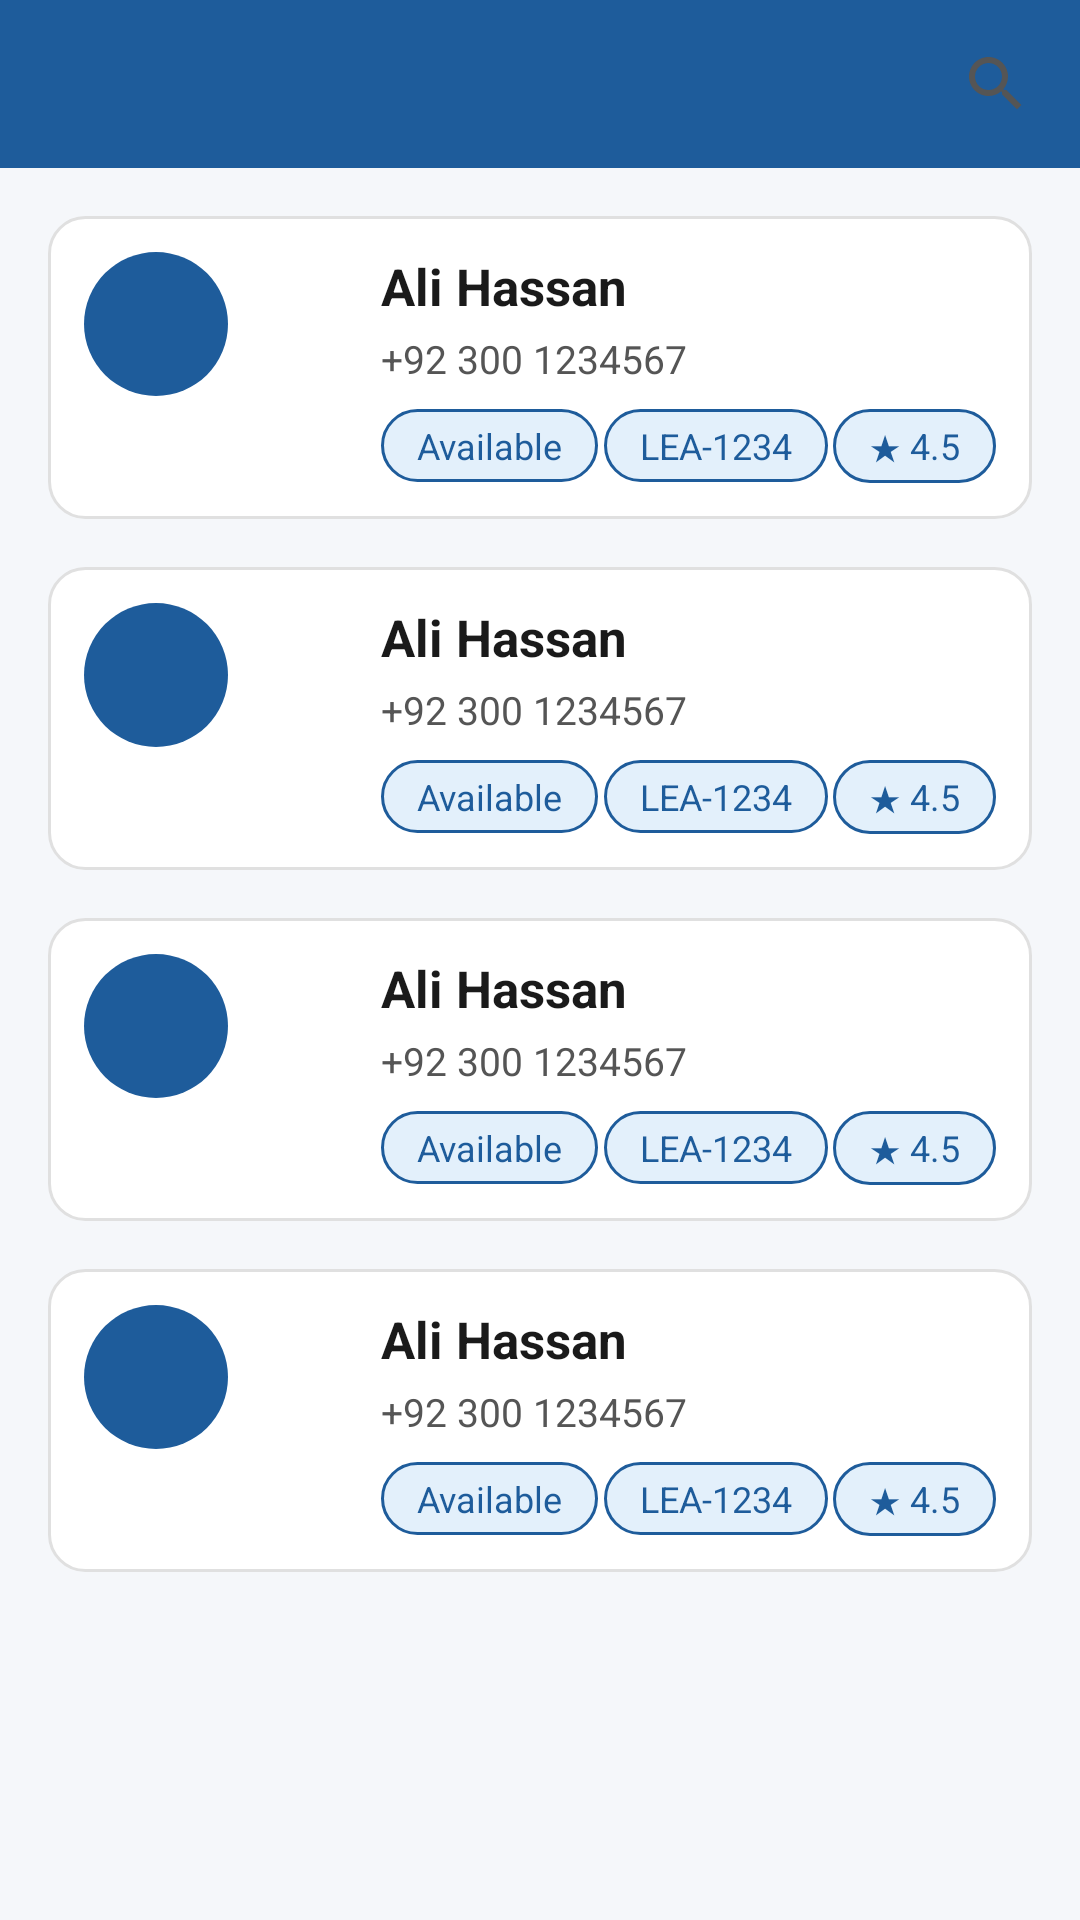

Locate icon controls on the screen. Image size 1080 × 1920, boxes as {"left": x1, "top": y1, "right": x2, "bottom": y2}.
search: {"left": 969, "top": 57, "right": 1021, "bottom": 109}
